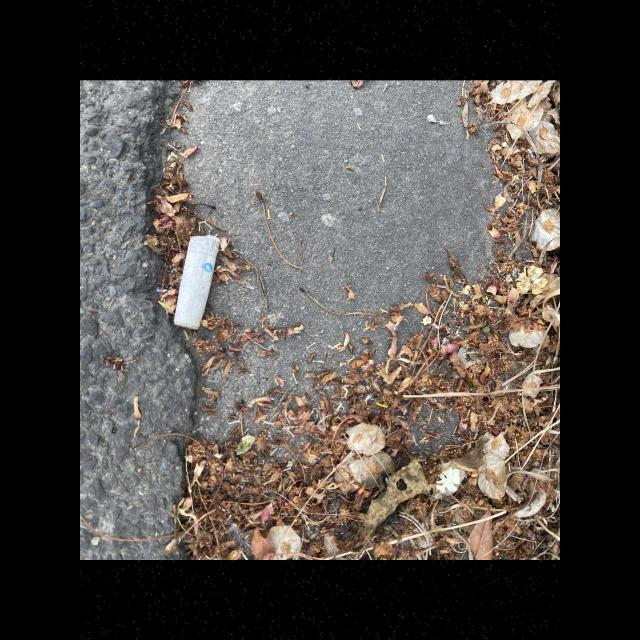cigarette: (173, 234, 220, 330)
